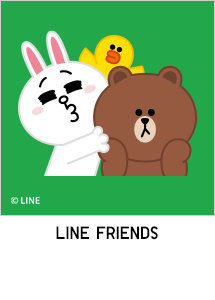line_brown: (92, 67, 203, 165)
